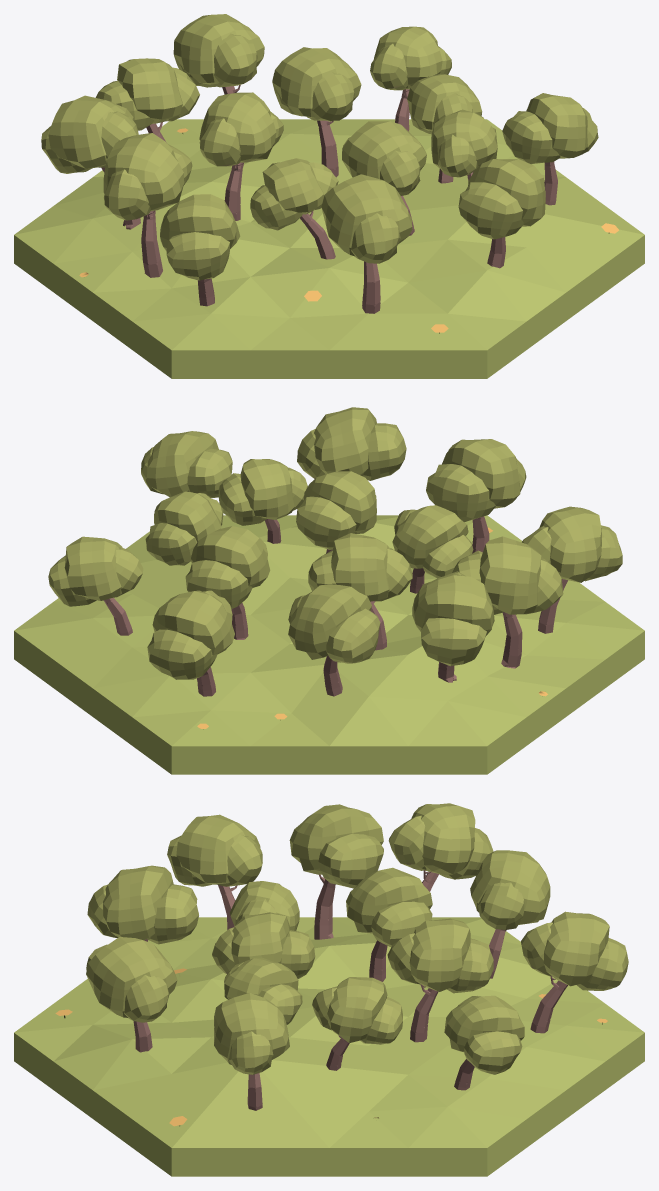
The model's file is deciduousForest.glb.
3 views of the same model, one above another, from view 1: azimuth 30°, elevation 25°; view 2: azimuth 150°, elevation 25°; view 3: azimuth 270°, elevation 25° (orthographic).
Parts seen in each view (by area): view 1: land, tree.001; view 2: tree.001, land; view 3: land, tree.001.
Boxes of the visible parts, x1,y1,x2,y2 form: land: (14,119,644,378); tree.001: (41,14,598,313); tree.001: (48,407,622,696); land: (14,515,644,774); land: (14,917,644,1176); tree.001: (86,803,628,1110).
Size of the model in its own units: 1.73 by 0.5812 by 2.
3 materials, 2 textured.
